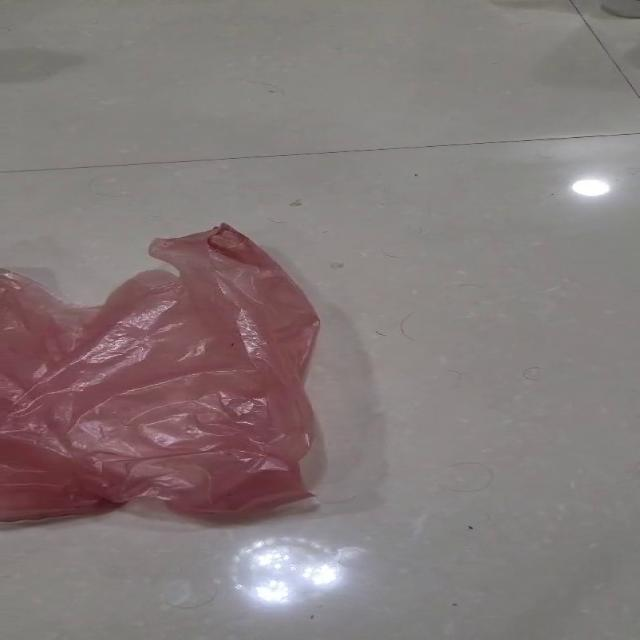plastic: (0, 221, 321, 522)
